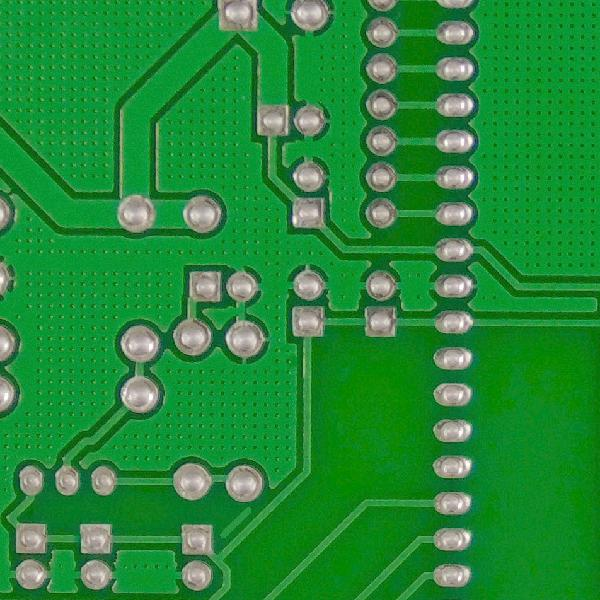spurious_copper: (212, 502, 261, 543)
